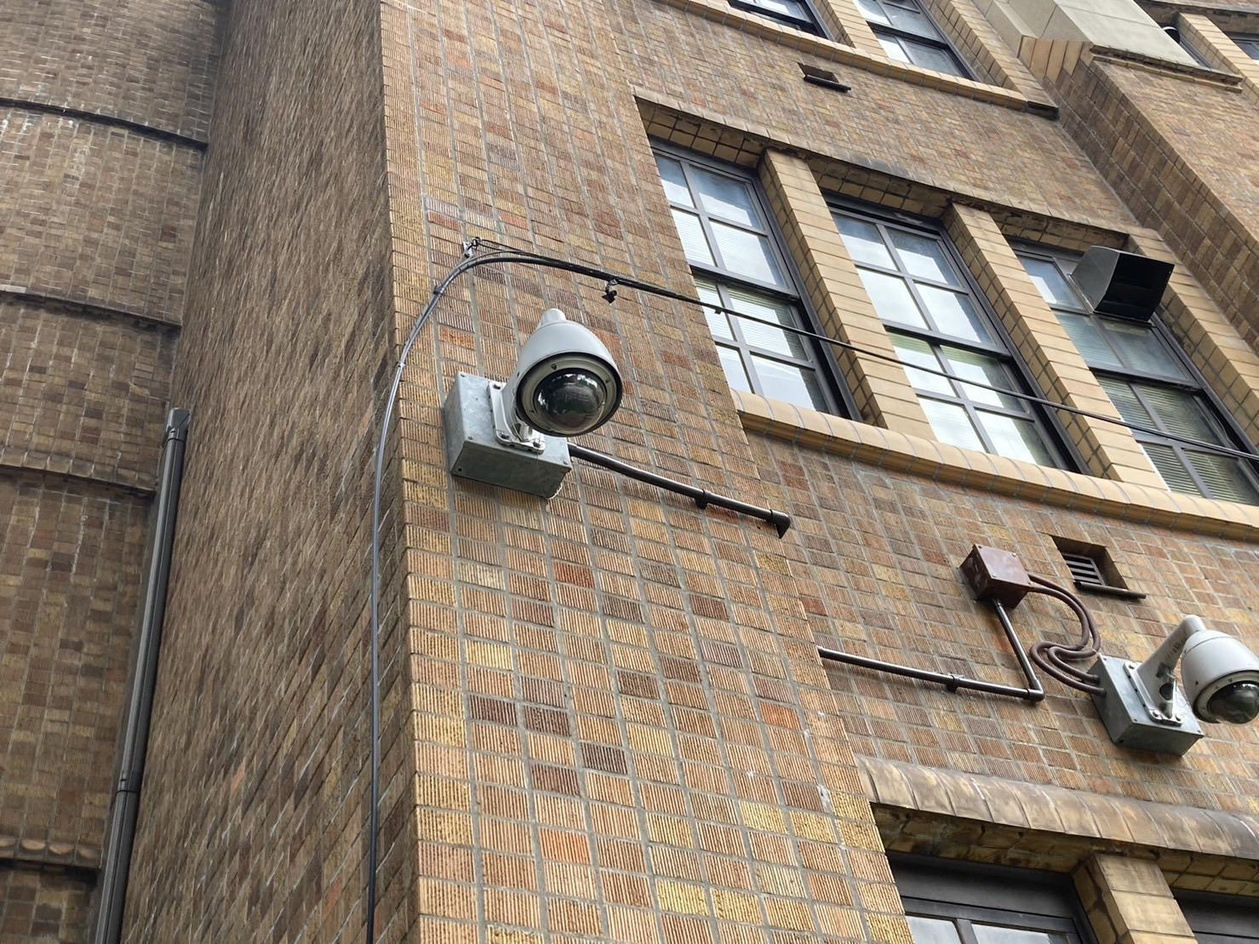maru: (507, 312, 627, 448), (1170, 608, 1259, 741)
